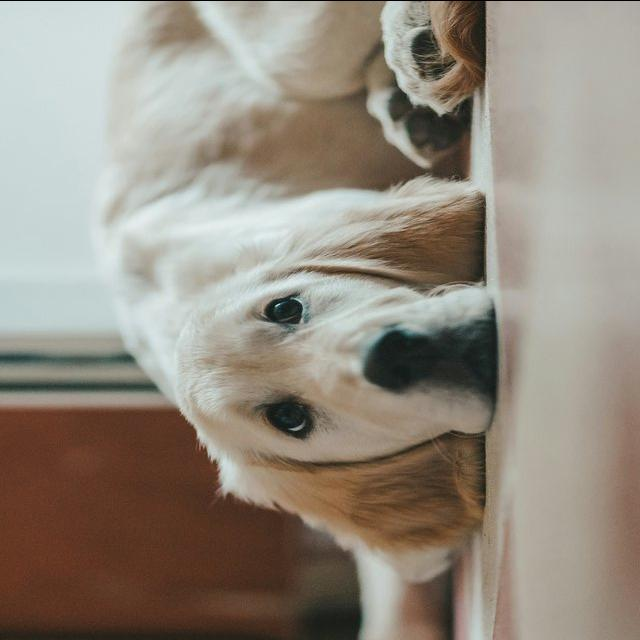retriever: (91, 0, 497, 635)
